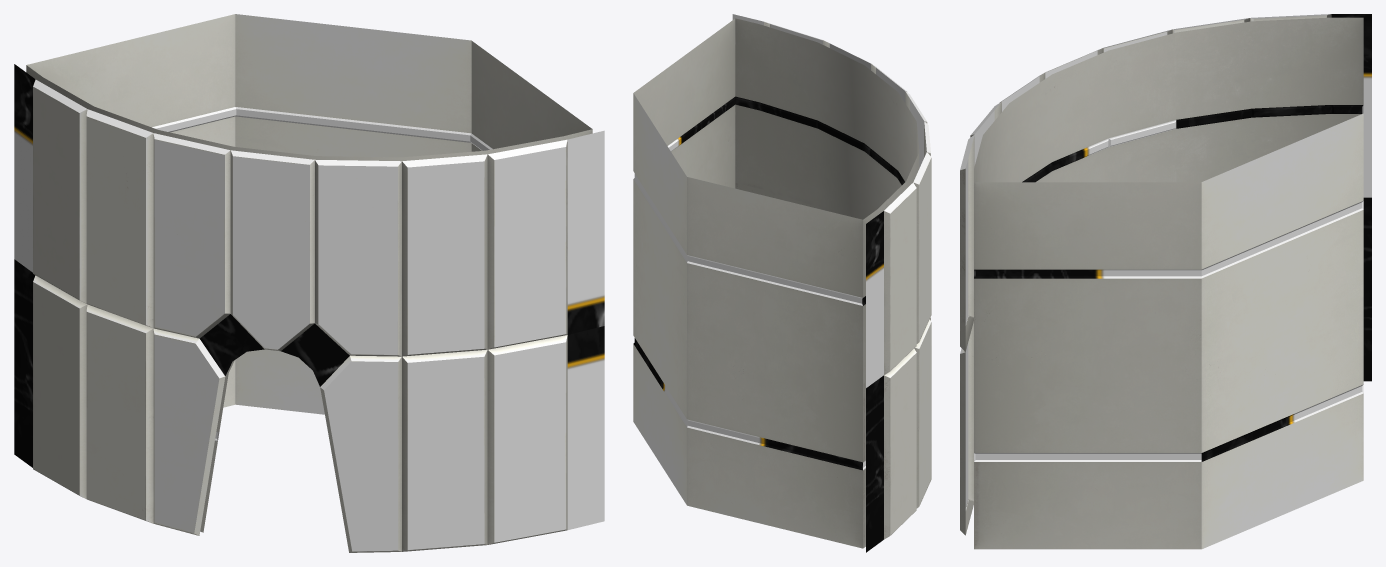
File: Salon.fbx
3 renders of one model, left to right at view 1: azimuth 30°, elevation 25°; view 2: azimuth 150°, elevation 25°; view 3: azimuth 270°, elevation 25°, orthographic. The views are drawn at different scales.
Parts seen in each view (by area): view 1: Hair Salon.001; view 2: Hair Salon.001; view 3: Hair Salon.001.
Boxes of the visible parts, x1,y1,x2,y2 form: Hair Salon.001: (14,14,604,552); Hair Salon.001: (633,14,931,552); Hair Salon.001: (960,14,1371,549).
Bounding box in the file's own units: 10.14 × 10.14 × 10.
